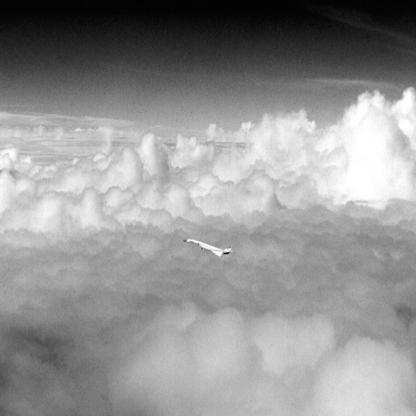XB70: (183, 239, 236, 259)
